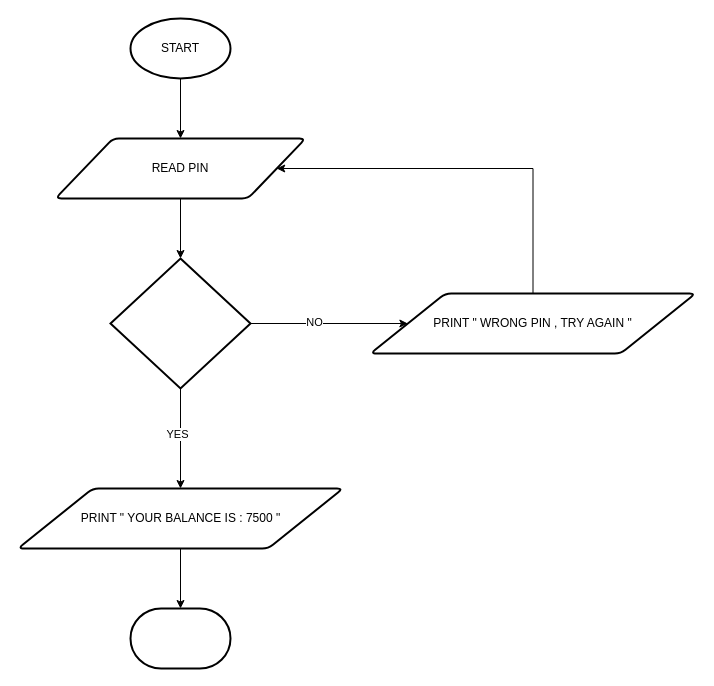
The diagram is 714 pixels wide and 686 high, and some of its shapes have lost their labels. The box of each missing label's shape, as (x1, y1, x2, y2) in pixels:
END: (129, 607, 231, 669)
PIN = 1234: (109, 257, 251, 389)
